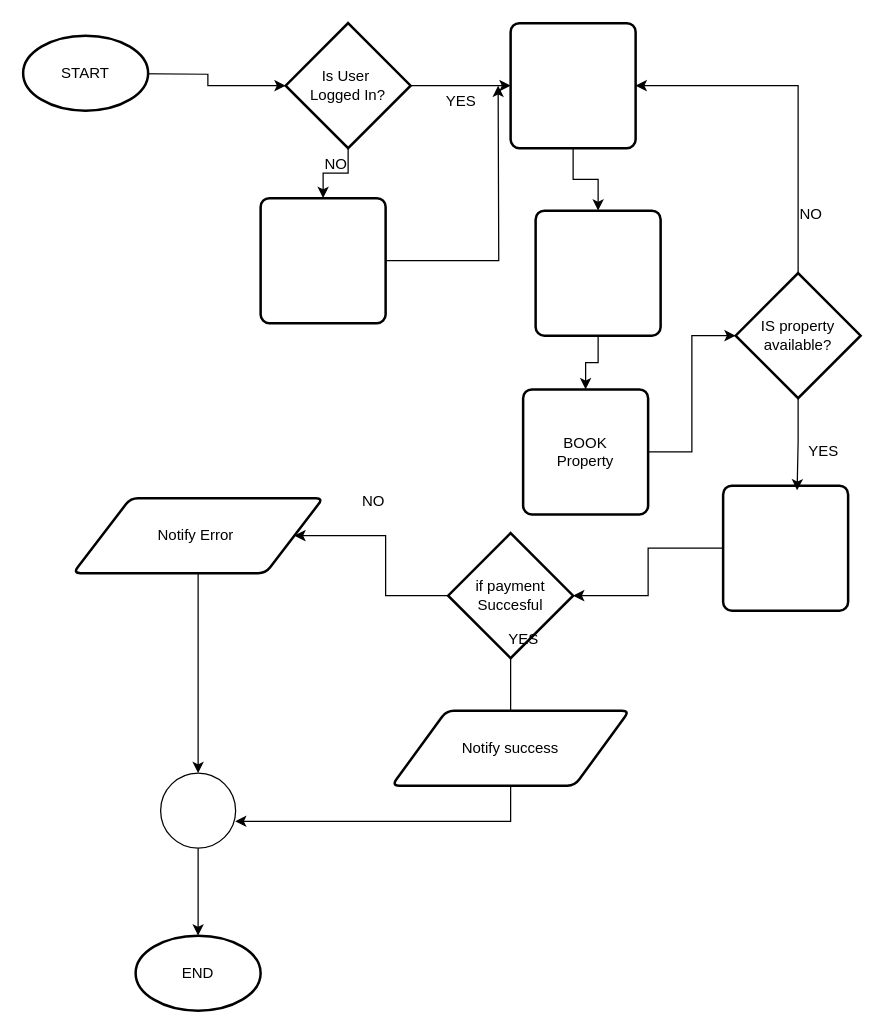
Some shapes in this 883 by 1033 pixel diagram are drawn without their labels. The centre of each missing label's shape, as x and y in pixels:
Login/ SignUP: point (322, 260)
Payment: point (785, 547)
Search and Filter Property: point (572, 85)
View Property: point (597, 272)
